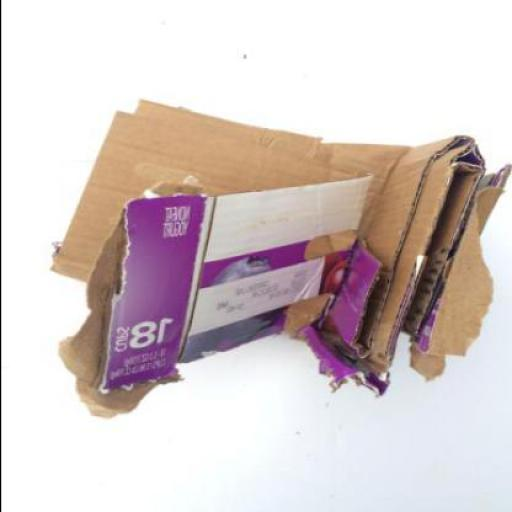cardboard: (129, 98, 511, 396), (46, 108, 372, 390), (55, 173, 375, 417)
